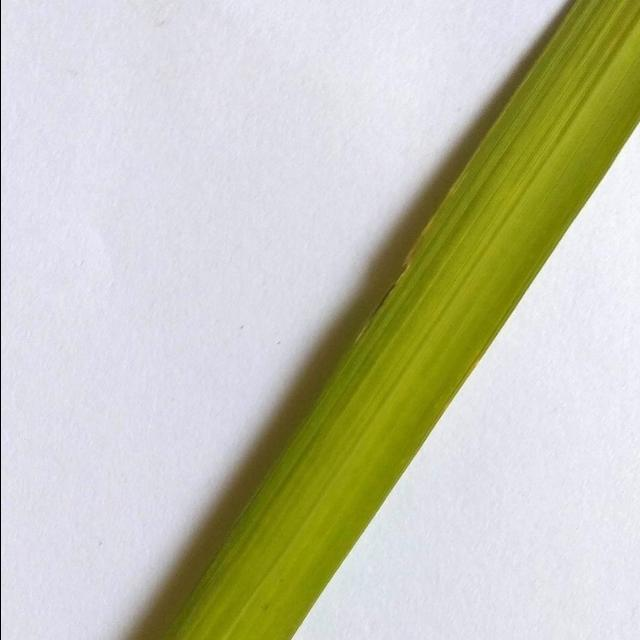healthy: (80, 0, 640, 640)
